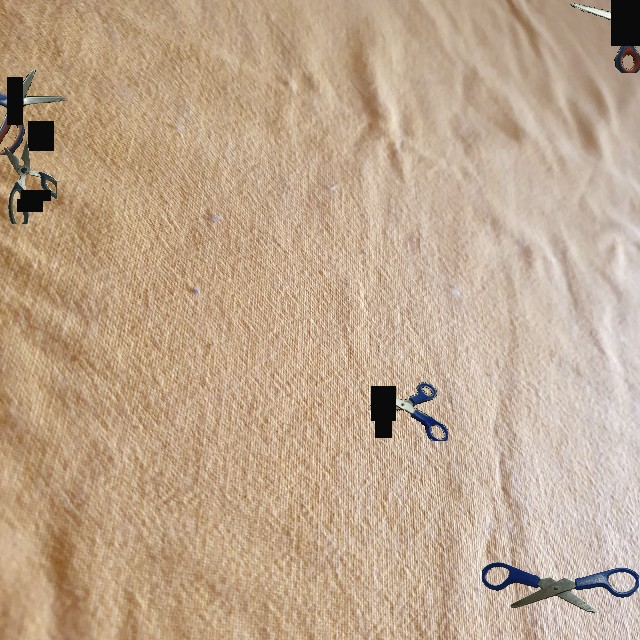scissors: (482, 562, 639, 613), (0, 70, 65, 155), (570, 0, 640, 73), (369, 382, 448, 441), (4, 141, 57, 224)
